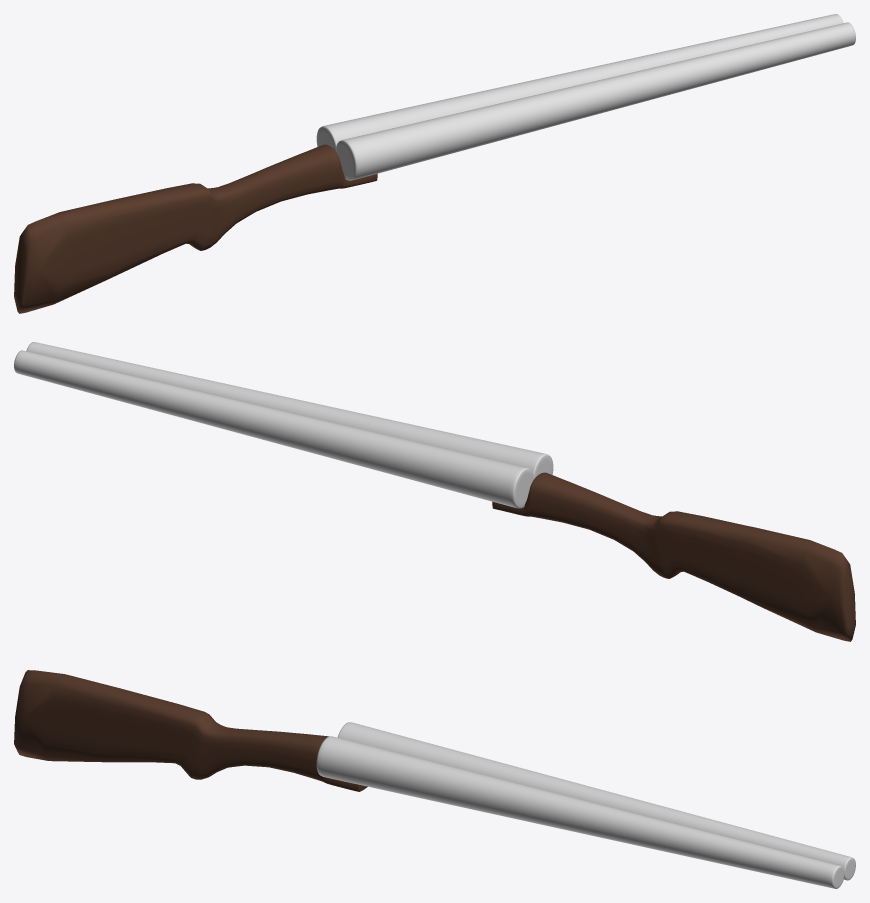
File: gun.fbx
3 views of the same model, one above another, from view 1: azimuth 30°, elevation 25°; view 2: azimuth 150°, elevation 25°; view 3: azimuth 330°, elevation 25° (orthographic).
Parts seen in each view (by area): view 1: barrel1.001, Cube.001; view 2: barrel1.001, Cube.001; view 3: barrel1.001, Cube.001.
Part boxes in pixels (left/top/right/bottom): barrel1.001: left=316, top=14, right=855, bottom=180; Cube.001: left=14, top=144, right=377, bottom=313; barrel1.001: left=14, top=342, right=553, bottom=508; Cube.001: left=492, top=472, right=855, bottom=641; barrel1.001: left=316, top=722, right=855, bottom=888; Cube.001: left=14, top=670, right=367, bottom=791.
Size of the model in its own units: 116 by 13.65 by 9.67.
